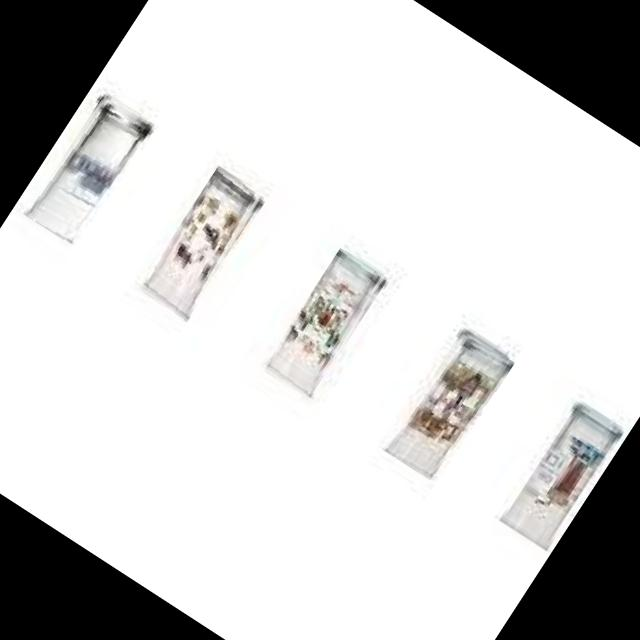Glass: (19, 85, 159, 248), (378, 322, 514, 482), (136, 164, 270, 324), (260, 246, 390, 402)
